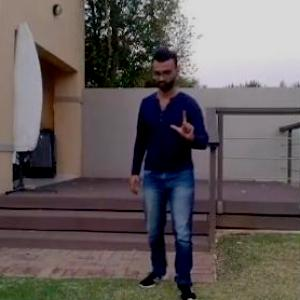land_hand: (168, 101, 202, 147)
